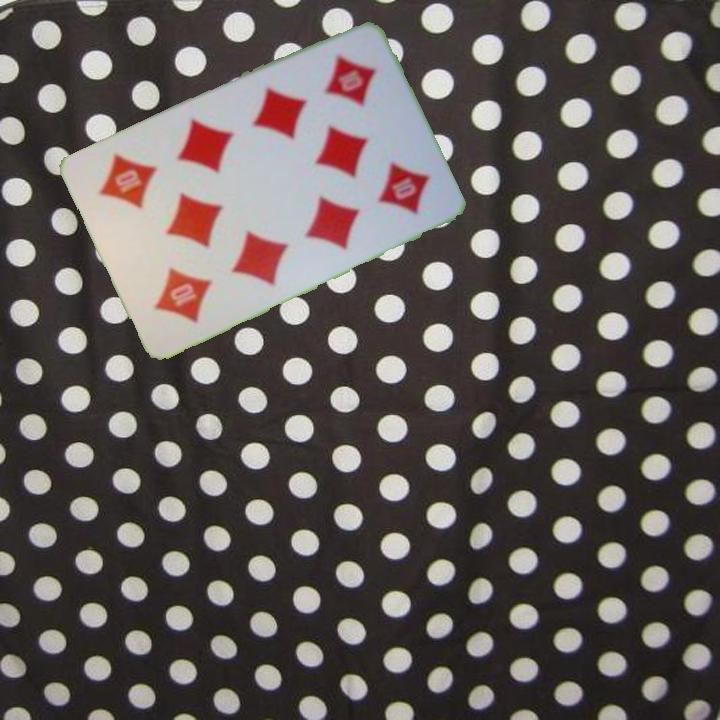d_10.png: (290, 33, 409, 158), (117, 219, 235, 344)
